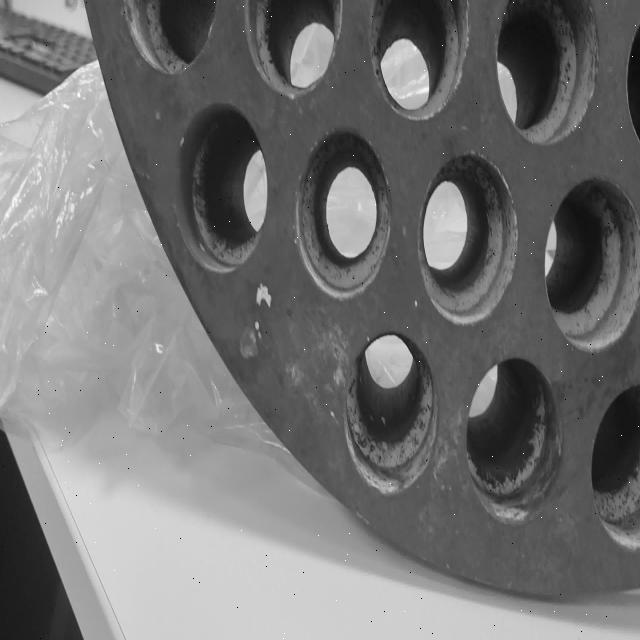Hole: (419, 152, 519, 326), (294, 128, 393, 300), (545, 176, 639, 353), (466, 354, 562, 525), (344, 330, 438, 496), (178, 102, 268, 274), (495, 0, 599, 146), (370, 0, 470, 122), (244, 0, 344, 100), (590, 384, 640, 554), (122, 1, 220, 74)
